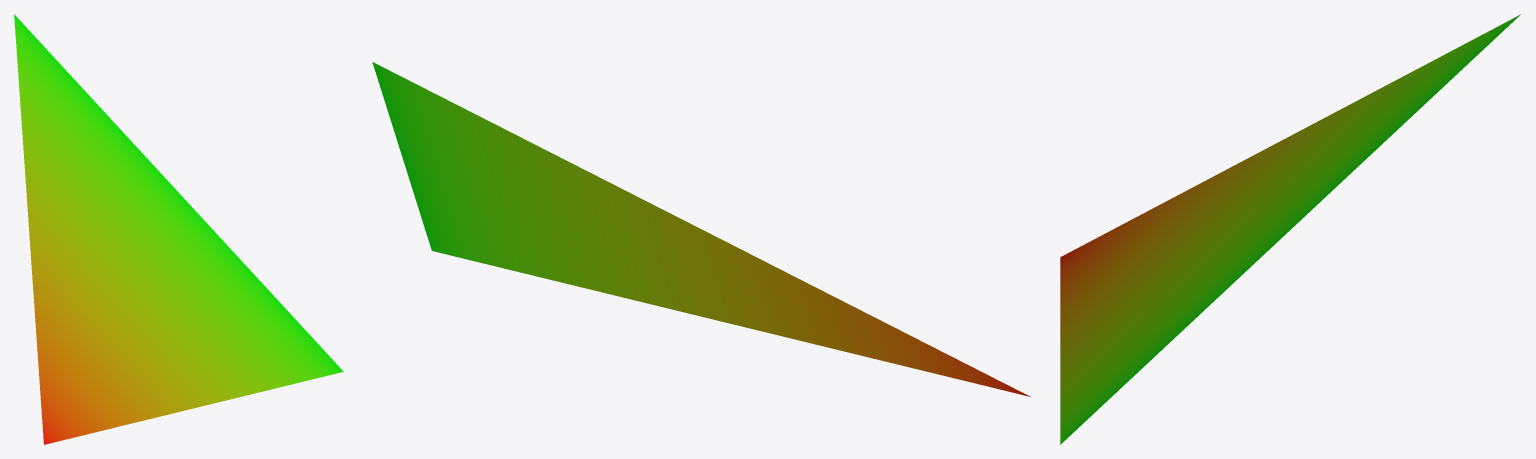
File: border_patch_11.obj
3 views of the same model, side by side, from view 1: azimuth 30°, elevation 25°; view 2: azimuth 150°, elevation 25°; view 3: azimuth 270°, elevation 25° (orthographic). The views are drawn at different scales.
Bounding box in the file's own units: 0.8253 × 0.691 × 0.8569.
